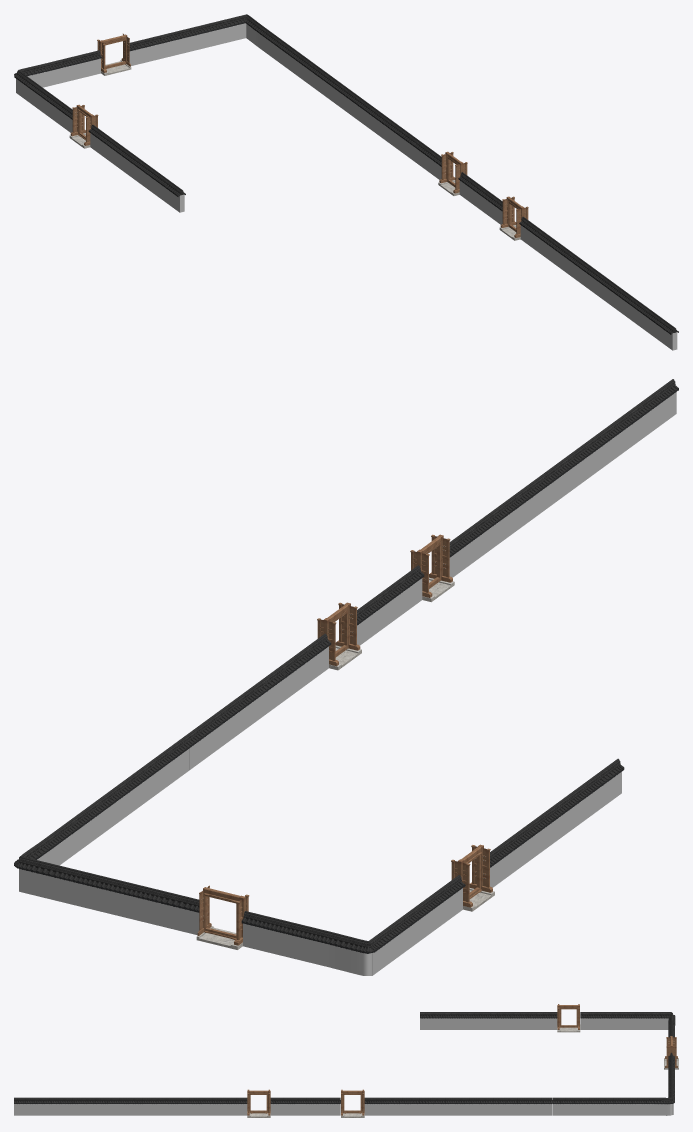
The model's file is SM_JSH_HG_StoneWallH_Splines_79.fbx.
3 renders of one model, top to bottom at view 1: azimuth 30°, elevation 25°; view 2: azimuth 150°, elevation 25°; view 3: azimuth 270°, elevation 25°, orthographic. The views are drawn at different scales.
Visible parts, largest first — view 1: SM_JSH_HG_StoneWallH_Splines_79; view 2: SM_JSH_HG_StoneWallH_Splines_79; view 3: SM_JSH_HG_StoneWallH_Splines_79.
Part boxes in pixels (x1,y1,x2,y2): SM_JSH_HG_StoneWallH_Splines_79: (14,14,678,350); SM_JSH_HG_StoneWallH_Splines_79: (14,379,678,975); SM_JSH_HG_StoneWallH_Splines_79: (14,1004,678,1117).
Bounding box in the file's own units: 2055 × 6286 × 248.
